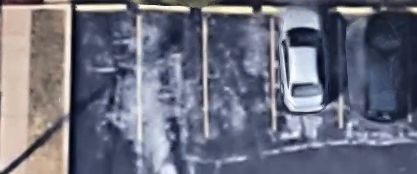Occupied: (272, 9, 342, 130), (340, 10, 410, 127)
Vacant: (70, 6, 139, 137), (138, 7, 207, 135), (205, 8, 273, 131)
